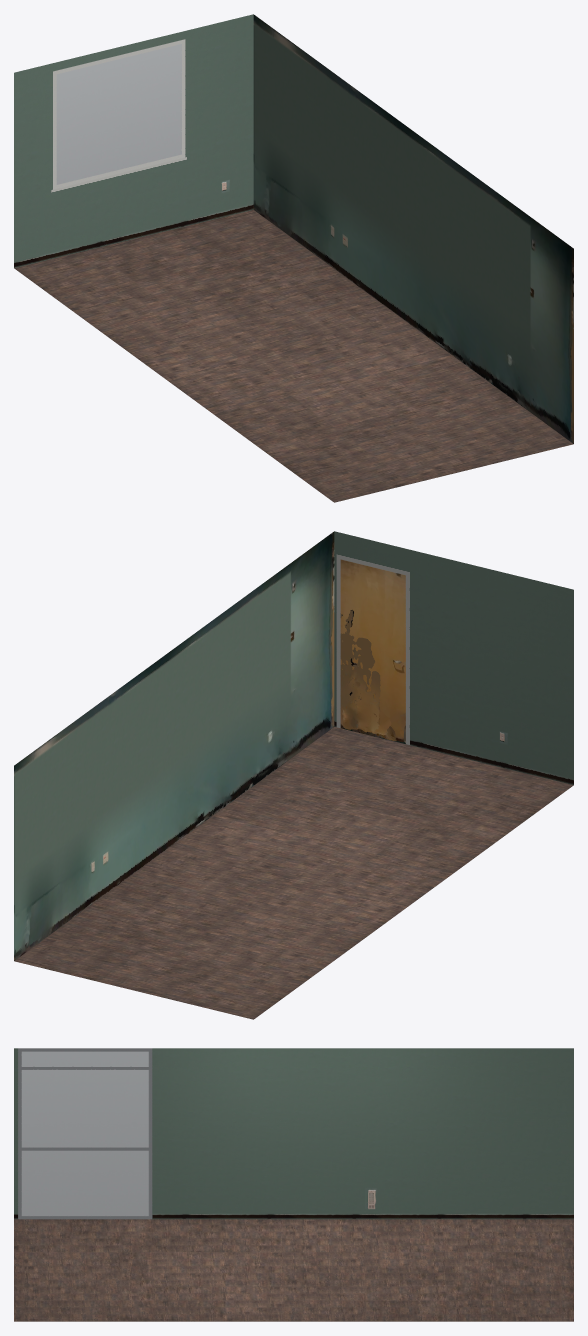
The model's file is room.glb.
The picture shows the model from 3 angles, top to bottom: view 1: azimuth 30°, elevation 25°; view 2: azimuth 150°, elevation 25°; view 3: azimuth 270°, elevation 25°; orthographic projection. The views are drawn at different scales.
Visible parts, largest first — view 1: Floor, East wall, North wall; view 2: Floor, East wall, South wall; view 3: West wall, Floor.
Boxes of the visible parts, x1=… form: Floor: x1=14, y1=210, x2=573, y2=502; East wall: x1=253, y1=14, x2=573, y2=443; North wall: x1=14, y1=14, x2=253, y2=267; Floor: x1=14, y1=727, x2=573, y2=1019; East wall: x1=14, y1=531, x2=334, y2=960; South wall: x1=334, y1=531, x2=573, y2=784; West wall: x1=14, y1=1048, x2=573, y2=1219; Floor: x1=14, y1=1219, x2=573, y2=1321.
Size of the model in its own units: 3.12 by 2.43 by 7.22.
6 materials, 6 textured.
